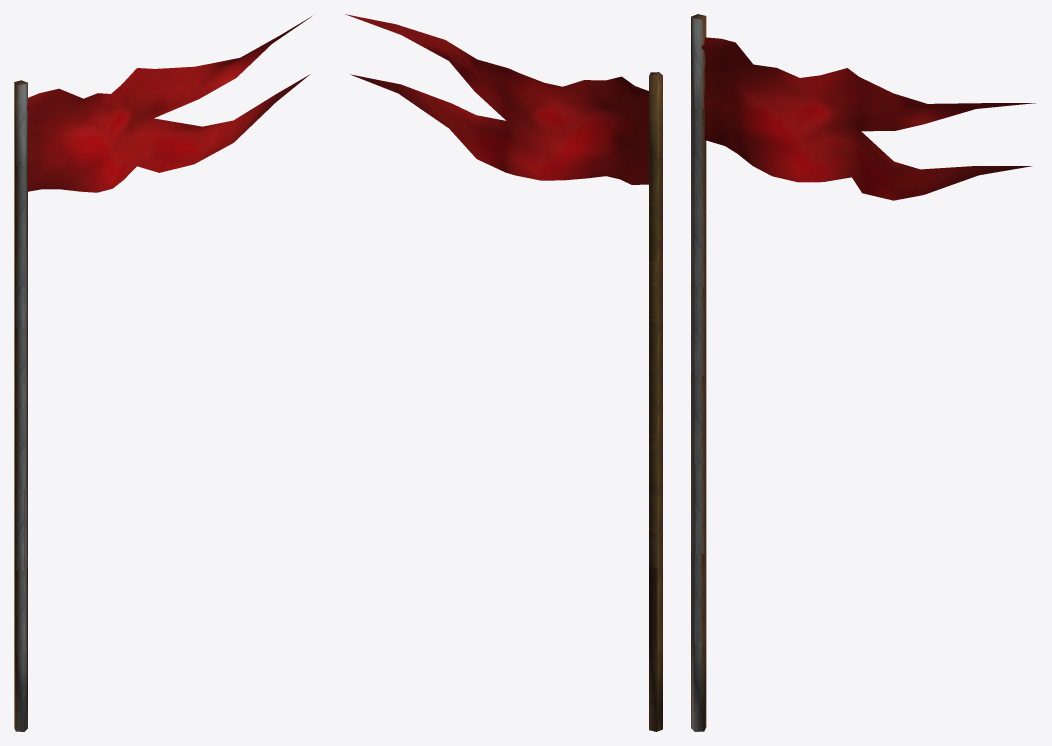
The model's file is flag_1.glb.
The picture shows the model from 3 angles, left to right: view 1: azimuth 30°, elevation 25°; view 2: azimuth 150°, elevation 25°; view 3: azimuth 330°, elevation 25°; orthographic projection. The views are drawn at different scales.
Visible parts, largest first — view 1: Flag_mesh; view 2: Flag_mesh; view 3: Flag_mesh.
Boxes of the visible parts, x1,y1,x2,y2 form: Flag_mesh: [14, 16, 311, 731]; Flag_mesh: [345, 14, 662, 731]; Flag_mesh: [691, 14, 1035, 731].
Bounding box in the file's own units: 4.56 × 9.16 × 0.4789.
2 materials, 2 textured.
